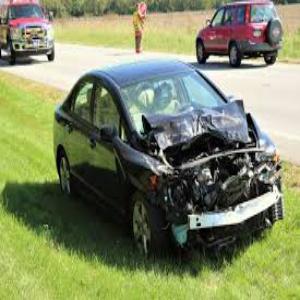bonnet: (148, 107, 256, 146)
bumper: (167, 175, 278, 249)
